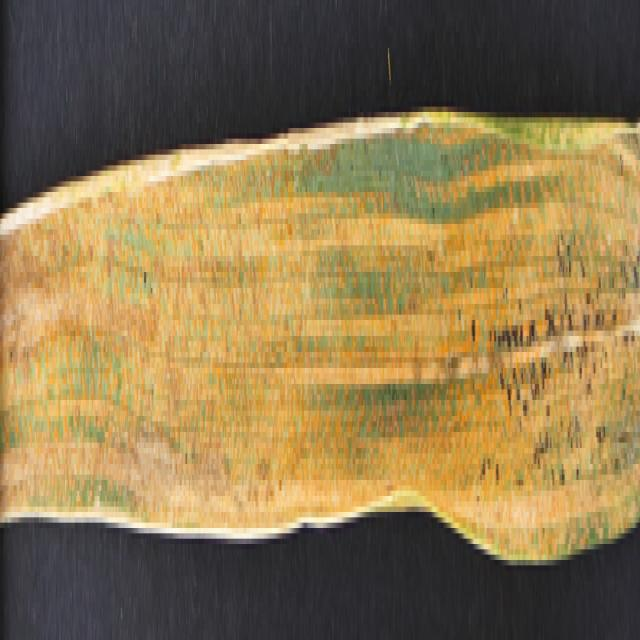leaf rust: (1, 117, 638, 555)
